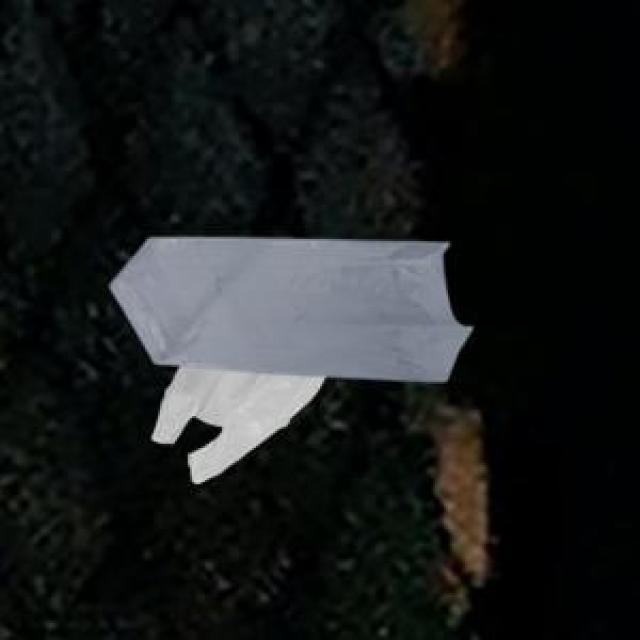waste: (110, 238, 471, 483)
